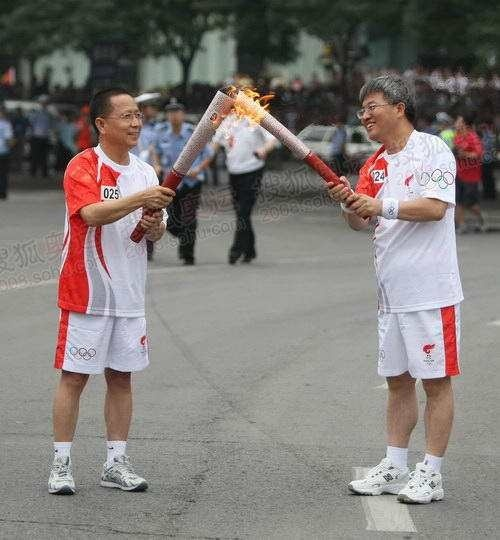fire: (226, 75, 270, 119)
